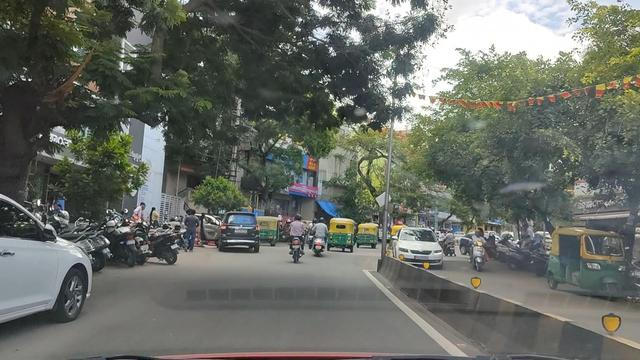LMV: (0, 194, 90, 327), (218, 213, 265, 259), (284, 219, 313, 261)
